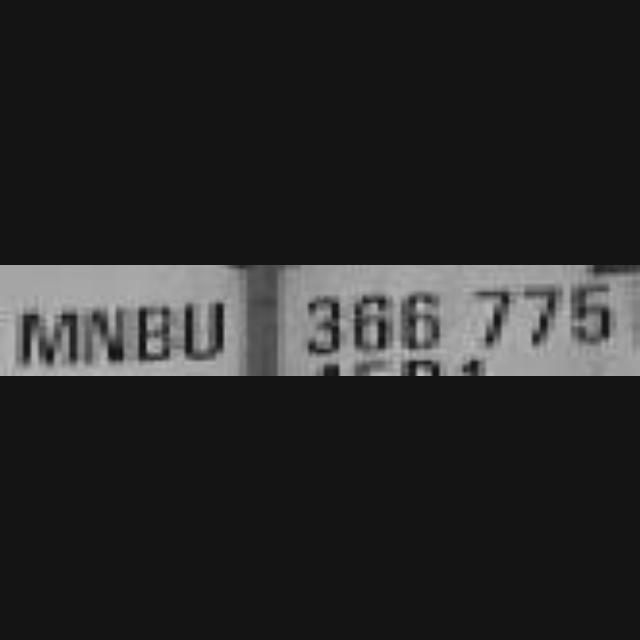3: (298, 287, 344, 357)
5: (564, 273, 620, 357)
6: (394, 284, 444, 358), (348, 286, 394, 358)
7: (516, 274, 564, 354), (468, 280, 516, 350)
b: (136, 294, 180, 376)
m: (0, 304, 86, 376)
n: (82, 296, 134, 376)
u: (180, 286, 232, 376)
